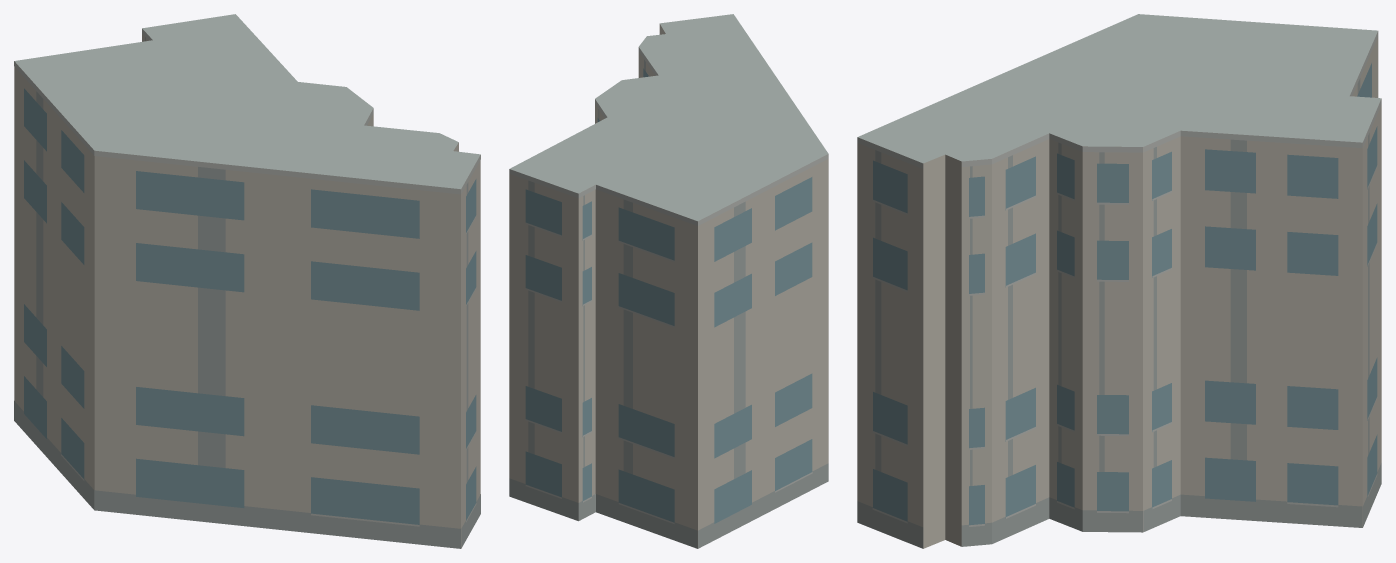
File: survey-upis-32462255.glb
3 renders of one model, left to right at view 1: azimuth 30°, elevation 25°; view 2: azimuth 150°, elevation 25°; view 3: azimuth 270°, elevation 25°, orthographic. The views are drawn at different scales.
Parts seen in each view (by area): view 1: survey-upis-32462255.tmp; view 2: survey-upis-32462255.tmp; view 3: survey-upis-32462255.tmp.
Part boxes in pixels (x1,y1,x2,y2): survey-upis-32462255.tmp: (14,14,480,548); survey-upis-32462255.tmp: (509,14,828,548); survey-upis-32462255.tmp: (857,14,1381,548).
Bounding box in the file's own units: 13.9 × 16.7 × 20.6.
